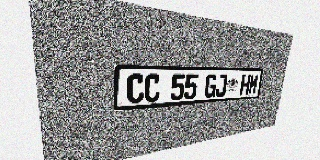5: (170, 74, 186, 101), (184, 74, 198, 100)
C: (127, 74, 144, 104), (144, 74, 161, 103)
G: (204, 74, 217, 98)
H: (239, 74, 251, 95)
J: (215, 74, 228, 97)
M: (248, 74, 259, 95)
